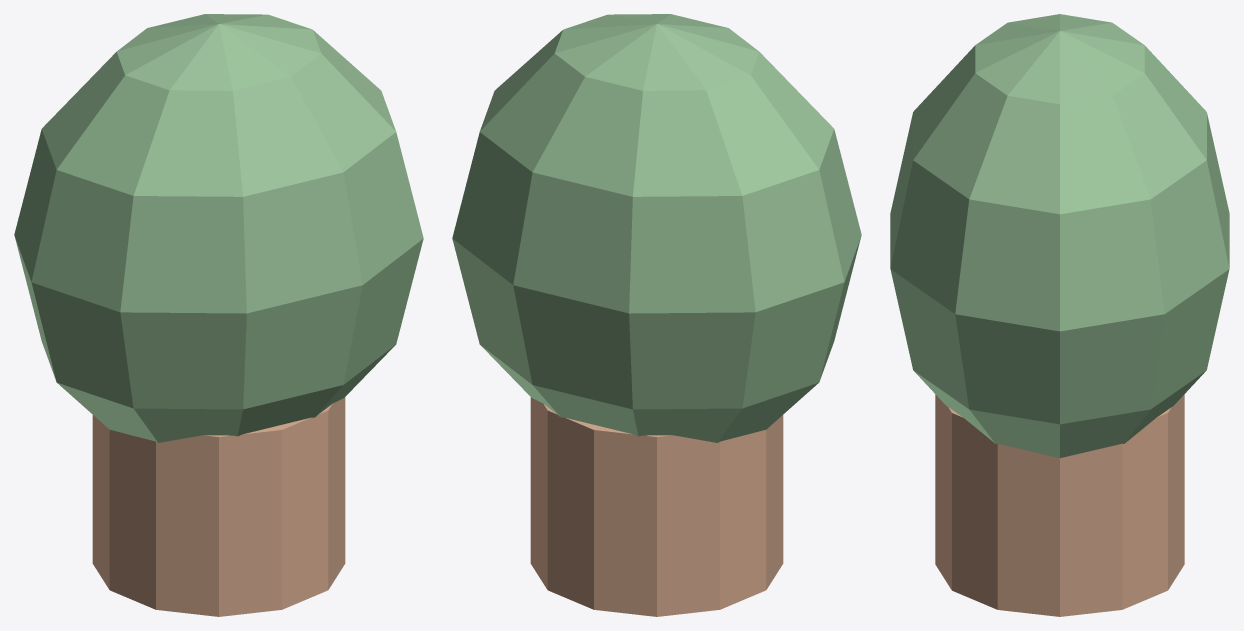
File: potted_plant.glb
3 renders of one model, left to right at view 1: azimuth 30°, elevation 25°; view 2: azimuth 150°, elevation 25°; view 3: azimuth 270°, elevation 25°, orthographic.
Visible parts, largest first — view 1: leaves, pot; view 2: leaves, pot; view 3: leaves, pot.
Part boxes in pixels (x1=…): leaves: x1=14, y1=14, x2=423, y2=442; pot: x1=92, y1=397, x2=345, y2=616; leaves: x1=452, y1=14, x2=861, y2=442; pot: x1=530, y1=397, x2=783, y2=616; leaves: x1=890, y1=14, x2=1229, y2=457; pot: x1=935, y1=394, x2=1184, y2=616.
Bounding box in the file's own units: 1.2 × 1.65 × 0.9511.
